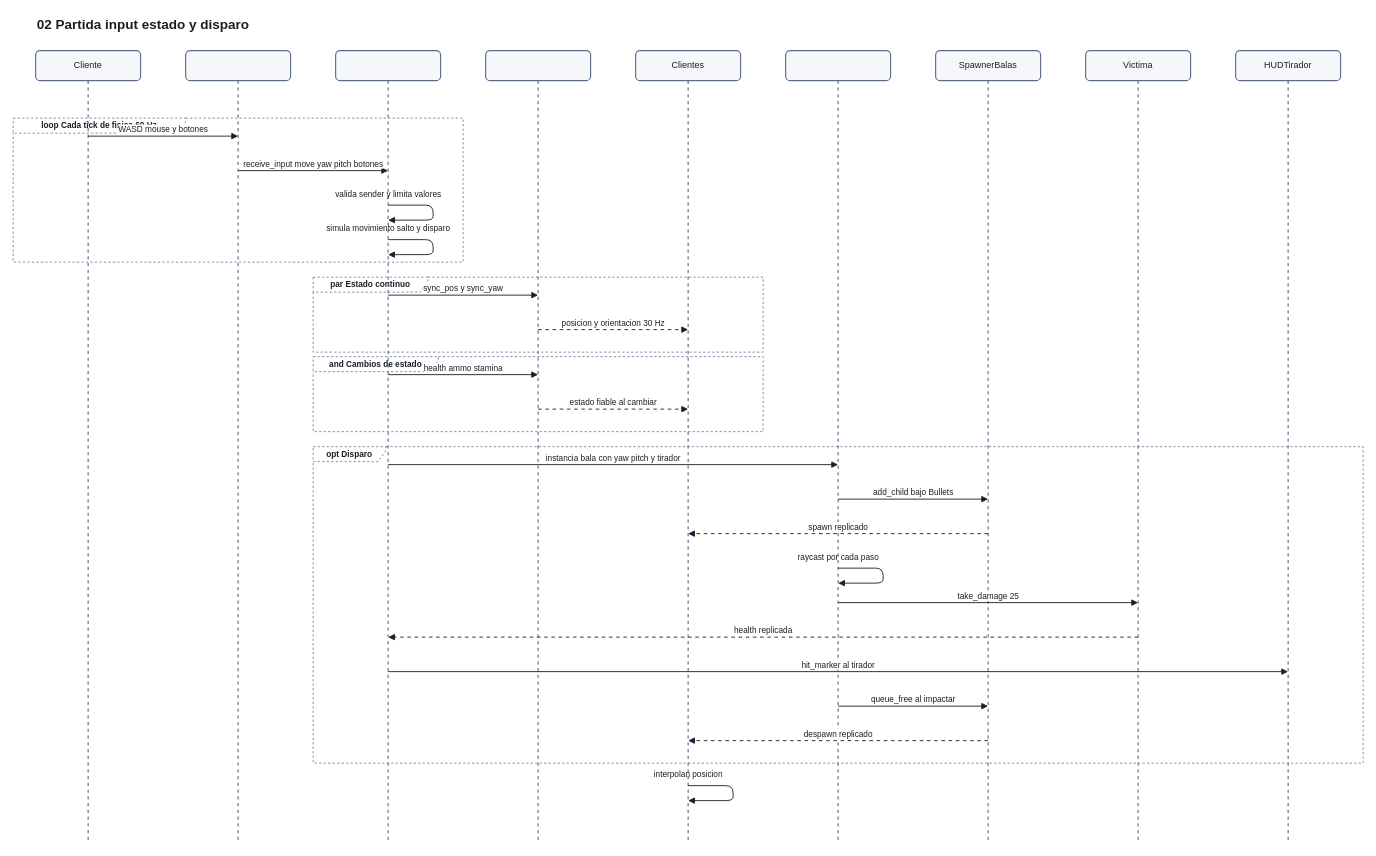
Image size: 1376x856. Some labels were removed from this diagram. Each missing label, with the box of its shape:
BalaServidor: (785, 50, 891, 843)
JugadorCliente: (185, 50, 291, 843)
JugadorServidor: (335, 50, 441, 843)
Sincronizador: (485, 50, 591, 843)
